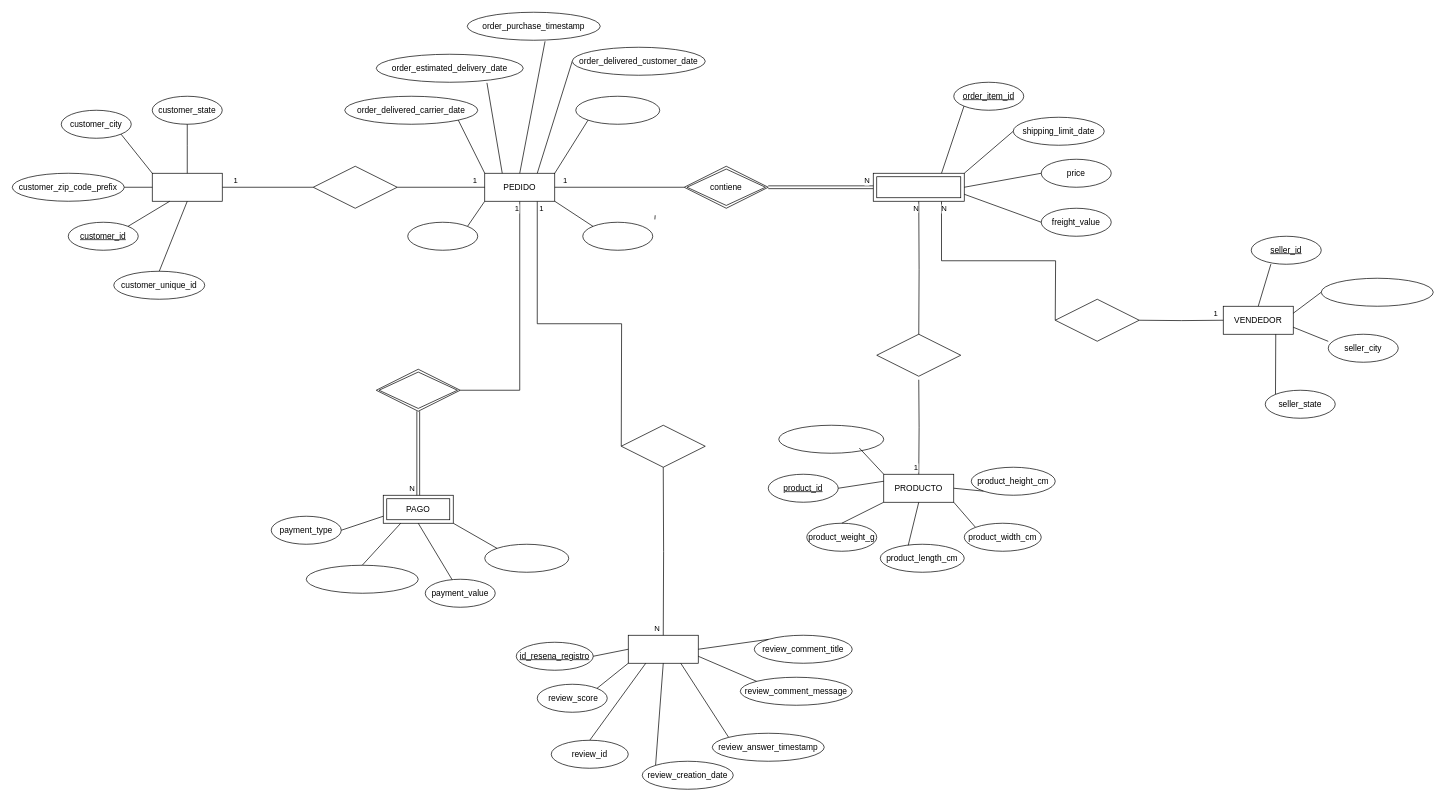
Some shapes in this 1446 by 802 pixel diagram are drawn without their labels. The centre of each missing label's shape, as x and y in pixels:
"CLIENTE" belongs at point 187,187.
"corresponde a" belongs at point 918,355.
"DETALLE PEDIDO" belongs at point 918,187.
"order_approved_at," belongs at point 617,110.
"order_id" belongs at point 442,236.
"order_status" belongs at point 617,236.
"payment_installments" belongs at point 362,579.
"payment_sequential" belongs at point 526,558.
"product_category_name" belongs at point 831,439.
"realiza" belongs at point 355,187.
"recibe" belongs at point 663,446.
"RESEÑA" belongs at point 663,649.
"seller_zip_code_prefix" belongs at point 1377,292.
"tiene" belongs at point 418,390.
"vende" belongs at point 1097,320.
